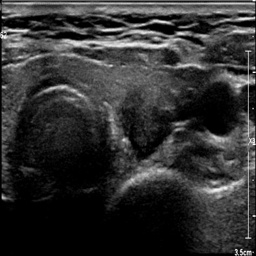mass: (118, 91, 171, 156)
